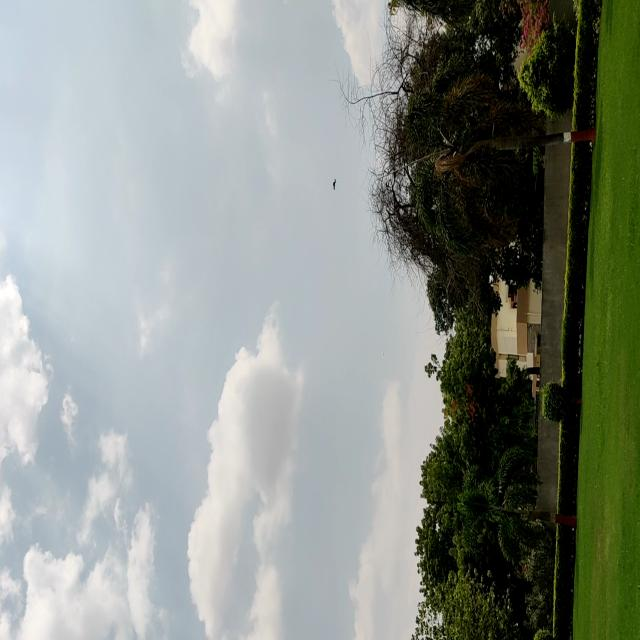drone: (327, 172, 342, 192)
